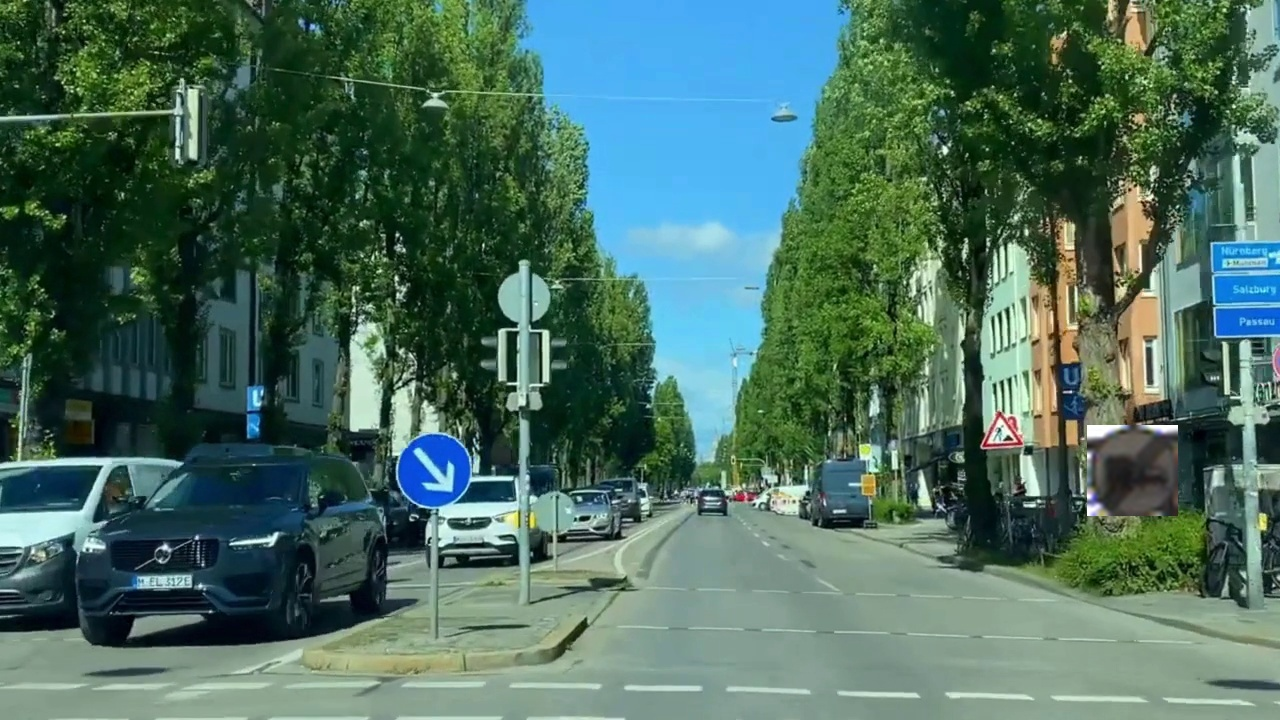End no pass >3.5t: (1087, 425, 1178, 516)
